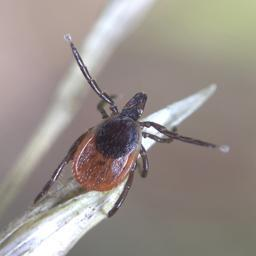Ixodes scapularis: (29, 36, 218, 210)
